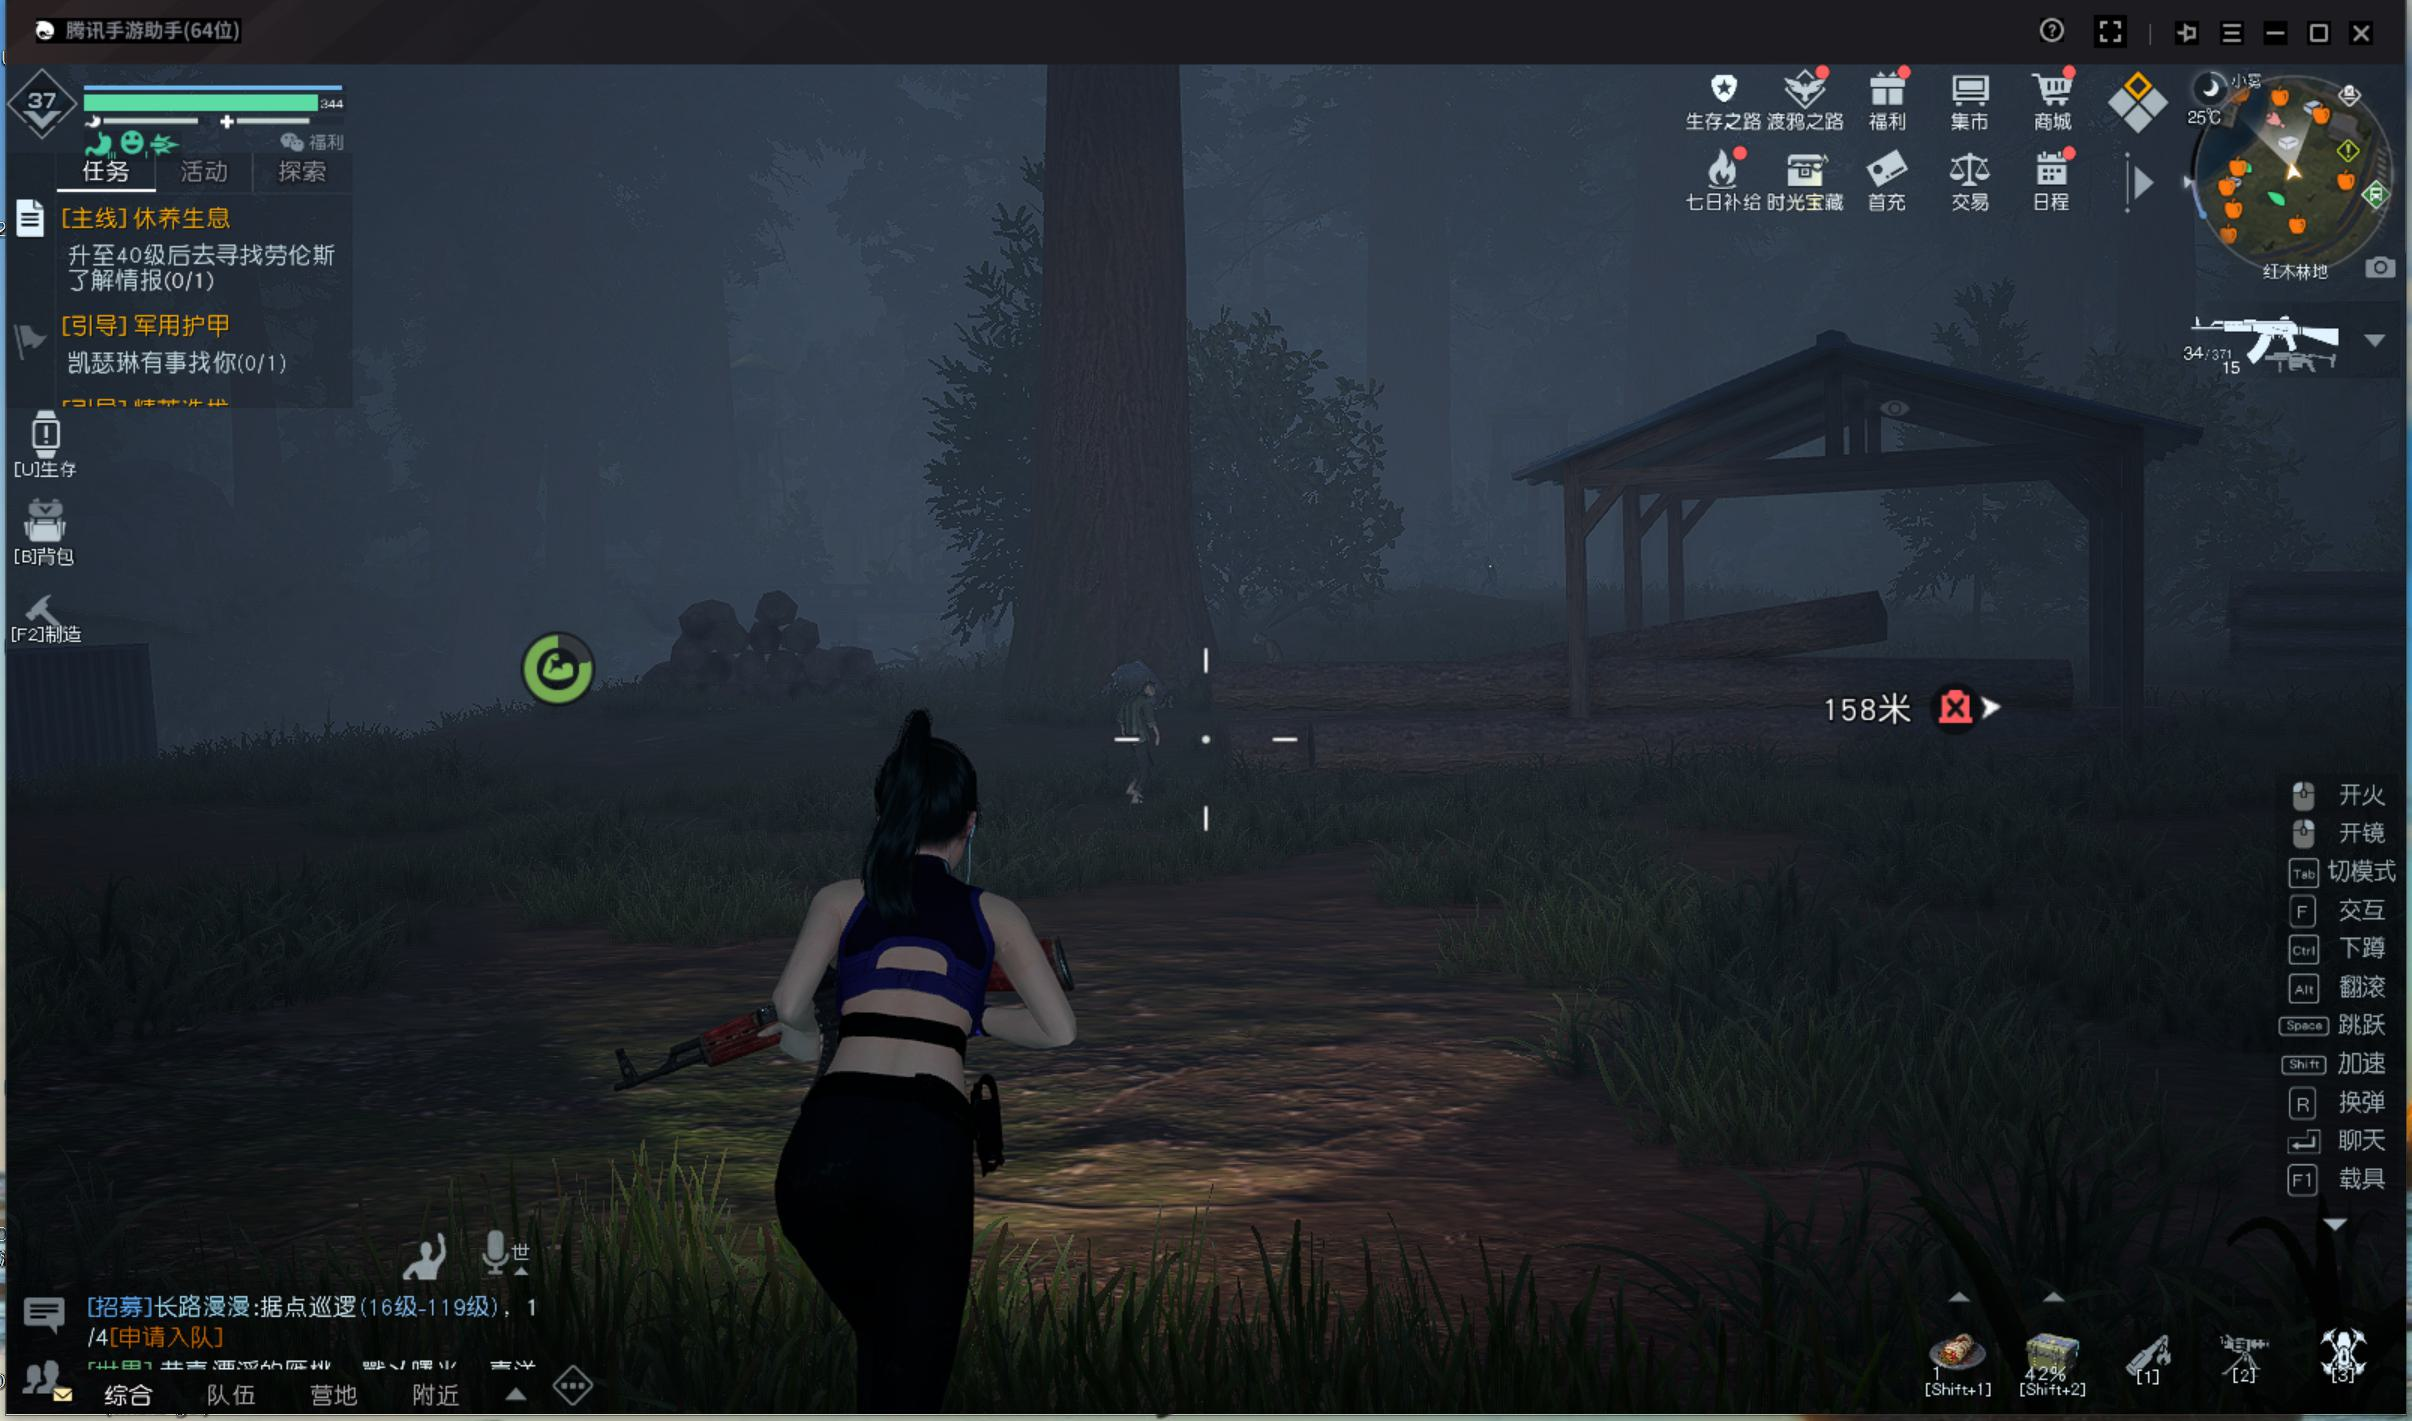tree: (1006, 88, 1235, 690)
